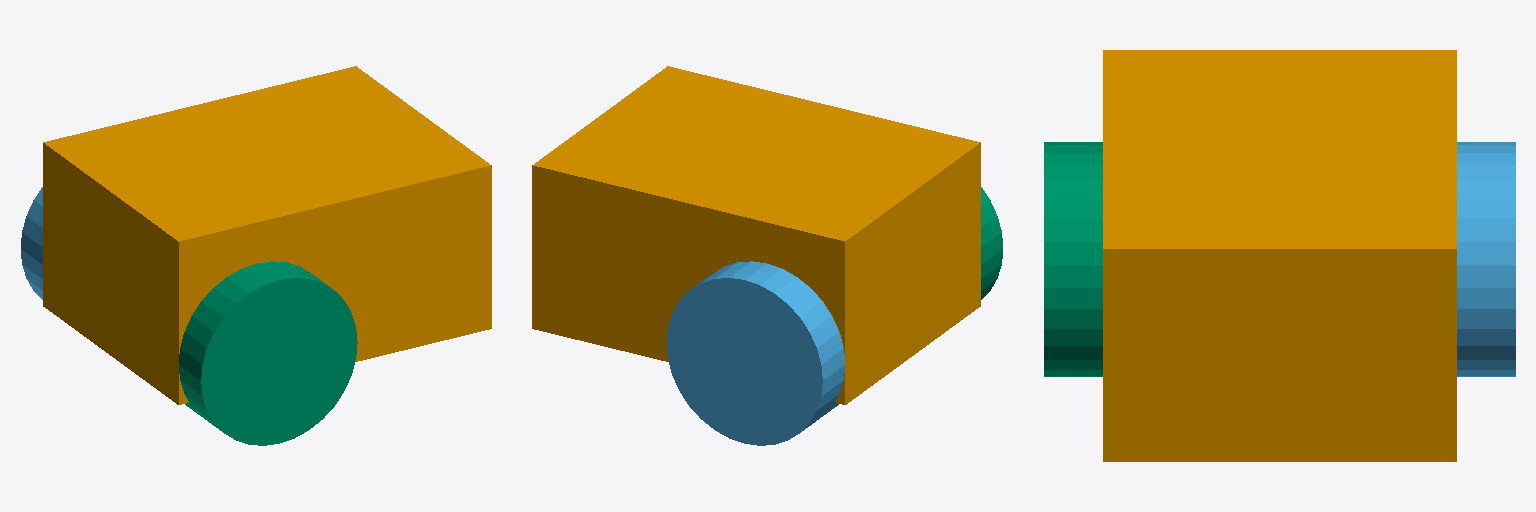
URDF robot description (rover):
<robot name="rover">

    <gazebo>
        <plugin name="gazebo_ros_control" filename="libgazebo_ros_control.so">
            <robotNamespace>/rover</robotNamespace>
        </plugin>
    </gazebo>

    <link name="chassis_link">
        <collision>
           <origin rpy="0.0 0 0" xyz="0 0 0"/>
           <geometry>
                <box size="0.8 0.6 0.4"/>
           </geometry> 
        </collision>
        <visual>
           <origin rpy="0.0 0 0" xyz="0 0 0"/>
           <geometry>
                <box size="0.8 0.6 0.4"/>
           </geometry> 
        </visual> 
        <inertial>
            <mass value="10"/>
            <inertia ixx="0.4" ixy="0.0" ixz="0.0" iyy="0.4" iyz="0.0" izz="0.2"/>
        </inertial>
    </link>

    <joint name="back_left_wheel_joint" type="continuous">    
        <origin rpy="1.570796 0 0" xyz="-0.20 0.30 -0.1"/>    
        <child link="back_left_wheel_link" />    
        <parent link="chassis_link"/>    
        <axis rpy="0 0 0" xyz="0 0 1"/>    
        <limit effort="10000" velocity="1000"/>    
        <joint_properties damping="1.0" friction="1.0" />  
    </joint>

    <link name="back_left_wheel_link">
        <collision>
           <origin rpy="0.0 0 0" xyz="0 0 0"/>
           <geometry>
                <cylinder length="0.2" radius="0.2"/>
           </geometry> 
        </collision>
        <visual>
           <origin rpy="0.0 0 0" xyz="0 0 0"/>
           <geometry>
                <cylinder length="0.2" radius="0.2"/>
           </geometry> 
        </visual>
        <inertial>
            <mass value="10"/>
            <inertia ixx="0.4" ixy="0.0" ixz="0.0" iyy="0.4" iyz="0.0" izz="0.2"/>
        </inertial>
    </link>

    <joint name="back_right_wheel_joint" type="continuous">    
        <origin rpy="1.570796 0 0" xyz="-0.20 -0.30 -0.1"/>    
        <child link="back_right_wheel_link" />    
        <parent link="chassis_link"/>    
        <axis rpy="0 0 0" xyz="0 0 1"/>    
        <limit effort="10000" velocity="1000"/>    
        <joint_properties damping="1.0" friction="1.0" />  
    </joint>

    <link name="back_right_wheel_link">
        <collision>
           <origin rpy="0.0 0 0" xyz="0 0 0"/>
           <geometry>
                <cylinder length="0.2" radius="0.2"/>
           </geometry> 
        </collision>
        <visual>
           <origin rpy="0.0 0 0" xyz="0 0 0"/>
           <geometry>
                <cylinder length="0.2" radius="0.2"/>
           </geometry> 
        </visual>
        <inertial>
            <mass value="10"/>
            <inertia ixx="0.4" ixy="0.0" ixz="0.0" iyy="0.4" iyz="0.0" izz="0.2"/>
        </inertial>
    </link>

    <joint name="caster_joint" type="continuous">    
        <origin rpy="1.570796 0 0" xyz="0.10 0.0 -0.1"/>    
        <child link="caster_link" />    
        <parent link="chassis_link"/>    
        <axis rpy="0 0 0" xyz="0 0 1"/>    
        <limit effort="10000" velocity="1000"/>    
        <joint_properties damping="1.0" friction="1.0" />  
    </joint>

    <link name="caster_link">
        <collision>
           <origin rpy="0.0 0 0" xyz="0 0 0"/>
           <geometry>
                <cylinder length="0.2" radius="0.2"/>
           </geometry> 
        </collision>
        <visual>
           <origin rpy="0.0 0 0" xyz="0 0 0"/>
           <geometry>
                <cylinder length="0.2" radius="0.2"/>
           </geometry> 
        </visual>
        <inertial>
            <mass value="10"/>
            <inertia ixx="0.4" ixy="0.0" ixz="0.0" iyy="0.4" iyz="0.0" izz="0.2"/>
        </inertial>
    </link>

</robot>

--- Render facts (derived) ---
Views: 3 orthographic renders of the robot side by side, from view 1: azimuth 30°, elevation 25°; view 2: azimuth 150°, elevation 25°; view 3: azimuth 270°, elevation 25°.
Model rover with 4 links and 3 joints (3 continuous), rooted at chassis_link, posed all joints at 0.
Visible links, largest first — view 1: chassis_link, back_right_wheel_link, back_left_wheel_link; view 2: chassis_link, back_left_wheel_link, back_right_wheel_link; view 3: chassis_link, back_left_wheel_link, back_right_wheel_link.
Link boxes in pixels (x1,y1,x2,y2): chassis_link: [43, 66, 491, 404]; back_right_wheel_link: [179, 261, 357, 445]; back_left_wheel_link: [21, 187, 42, 299]; chassis_link: [532, 66, 980, 404]; back_left_wheel_link: [666, 261, 844, 445]; back_right_wheel_link: [981, 187, 1002, 299]; chassis_link: [1103, 50, 1456, 461]; back_left_wheel_link: [1457, 142, 1515, 376]; back_right_wheel_link: [1044, 142, 1102, 376].
Size in the robot's own frame: 0.8 by 0.8 by 0.5 metres.
Geometry: primitives only (box / cylinder / sphere), no mesh files.